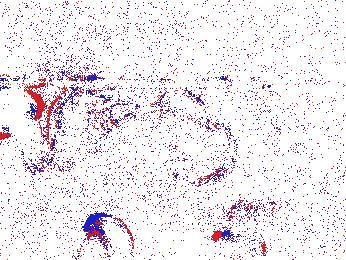flame jellyfish: (1, 86, 56, 175), (211, 199, 279, 260), (74, 213, 135, 260)
